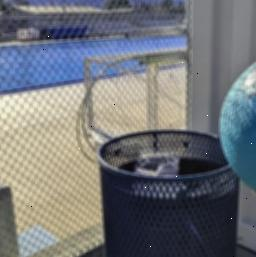algae: (217, 40, 256, 204)
